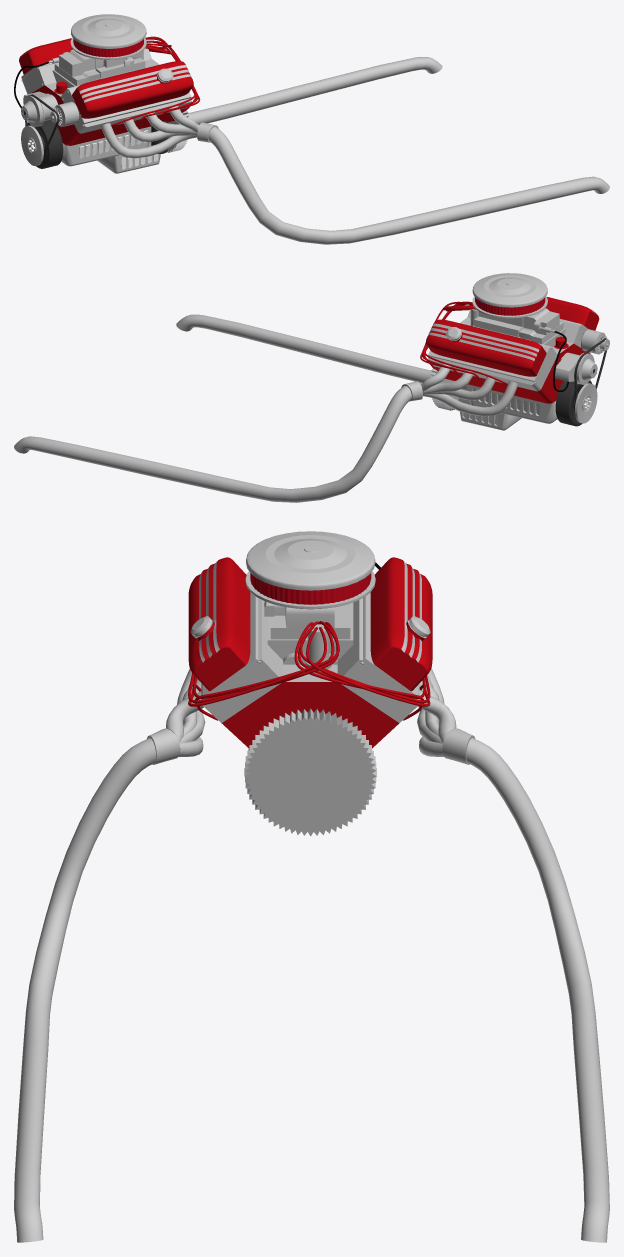
Rendered from motor.glb.
3 views of the same model, one above another, from view 1: azimuth 30°, elevation 25°; view 2: azimuth 150°, elevation 25°; view 3: azimuth 270°, elevation 25° (orthographic). The views are drawn at different scales.
Parts seen in each view (by area): view 1: super_header_55, Cube_12, Cube.001_13, super_header.001_56, Cylinder_19, Cube.004_16, Cylinder.010_29, Cylinder.008_27, Cylinder.001_20, Cube.003_15, Cylinder.020_39, Cube.006_17; view 2: super_header.001_56, Cube_12, Cube.001_13, super_header_55, Cylinder_19, Cube.004_16, Cylinder.010_29, Cylinder.008_27, Cube.003_15, Cylinder.001_20, Cylinder.020_39, Cube.002_14; view 3: Cube_12, super_header_55, super_header.001_56, Cube.001_13, Cylinder.018_37, Cylinder_19.
Part boxes in pixels (x1,y1,x2,y2): super_header_55: [101, 105, 609, 244]; Cube_12: [21, 48, 191, 145]; Cube.001_13: [19, 38, 193, 118]; super_header.001_56: [187, 57, 442, 124]; Cylinder_19: [70, 14, 146, 59]; Cube.004_16: [61, 126, 151, 166]; Cylinder.010_29: [21, 91, 57, 127]; Cylinder.008_27: [27, 119, 63, 168]; Cylinder.001_20: [21, 125, 43, 166]; Cube.003_15: [97, 142, 160, 173]; Cylinder.020_39: [50, 101, 79, 126]; Cube.006_17: [79, 130, 148, 158]; super_header.001_56: [14, 364, 517, 502]; Cube_12: [428, 308, 590, 403]; Cube.001_13: [425, 297, 599, 376]; super_header_55: [176, 314, 431, 382]; Cylinder_19: [472, 273, 547, 318]; Cube.004_16: [466, 384, 557, 423]; Cylinder.010_29: [555, 352, 597, 384]; Cylinder.008_27: [555, 380, 591, 426]; Cube.003_15: [458, 398, 521, 430]; Cylinder.001_20: [575, 383, 597, 423]; Cylinder.020_39: [581, 329, 609, 354]; Cube.002_14: [574, 338, 607, 405]; Cube_12: [201, 592, 419, 748]; super_header_55: [14, 669, 205, 1242]; super_header.001_56: [417, 668, 609, 1242]; Cube.001_13: [188, 557, 432, 691]; Cylinder.018_37: [244, 708, 376, 836]; Cylinder_19: [245, 531, 375, 609].
Size of the model in its own units: 11.78 by 4.66 by 7.09.
